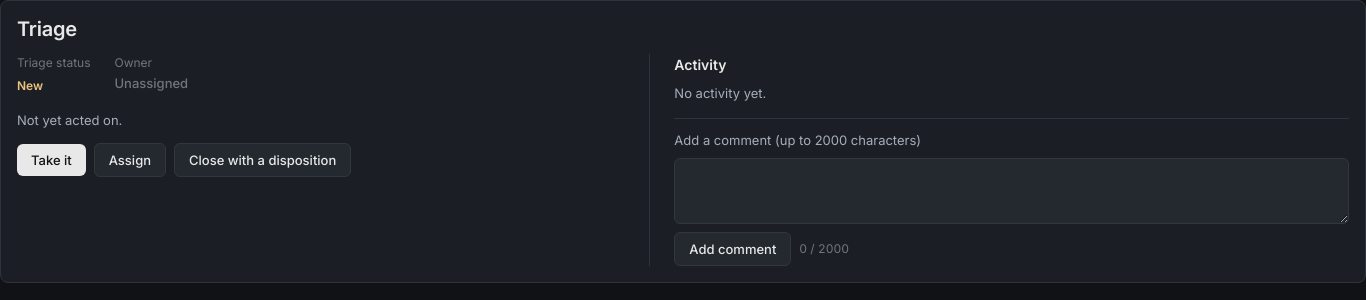
Test: take it › sends owner = me, status IN_PROGRESS and the version it read
Click the button "Take it" at (51, 160), box [17,144,86,176]
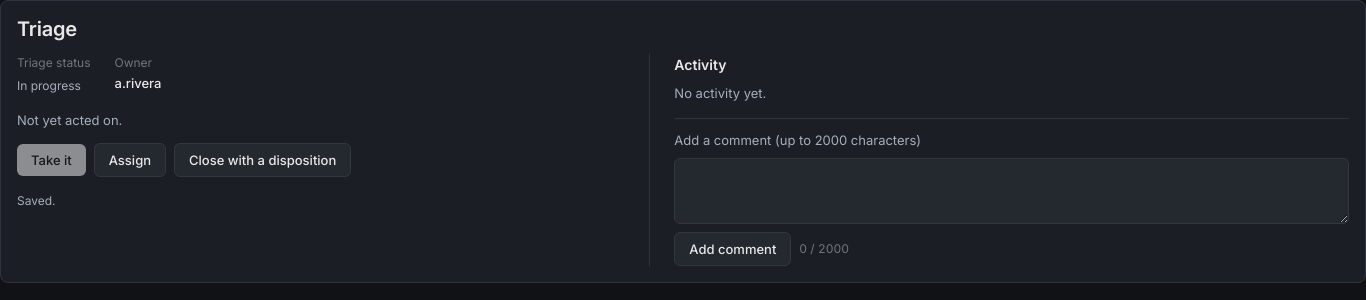
expect the text "In progress" is shown: met, box [17,74,81,98]
expect the message reads "Saved.": met, box [17,193,56,208]
